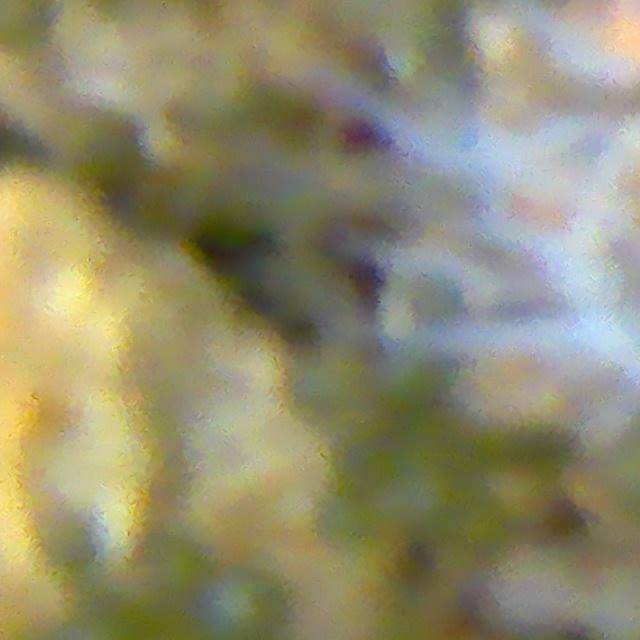SeaGrape: (199, 565, 280, 640)
